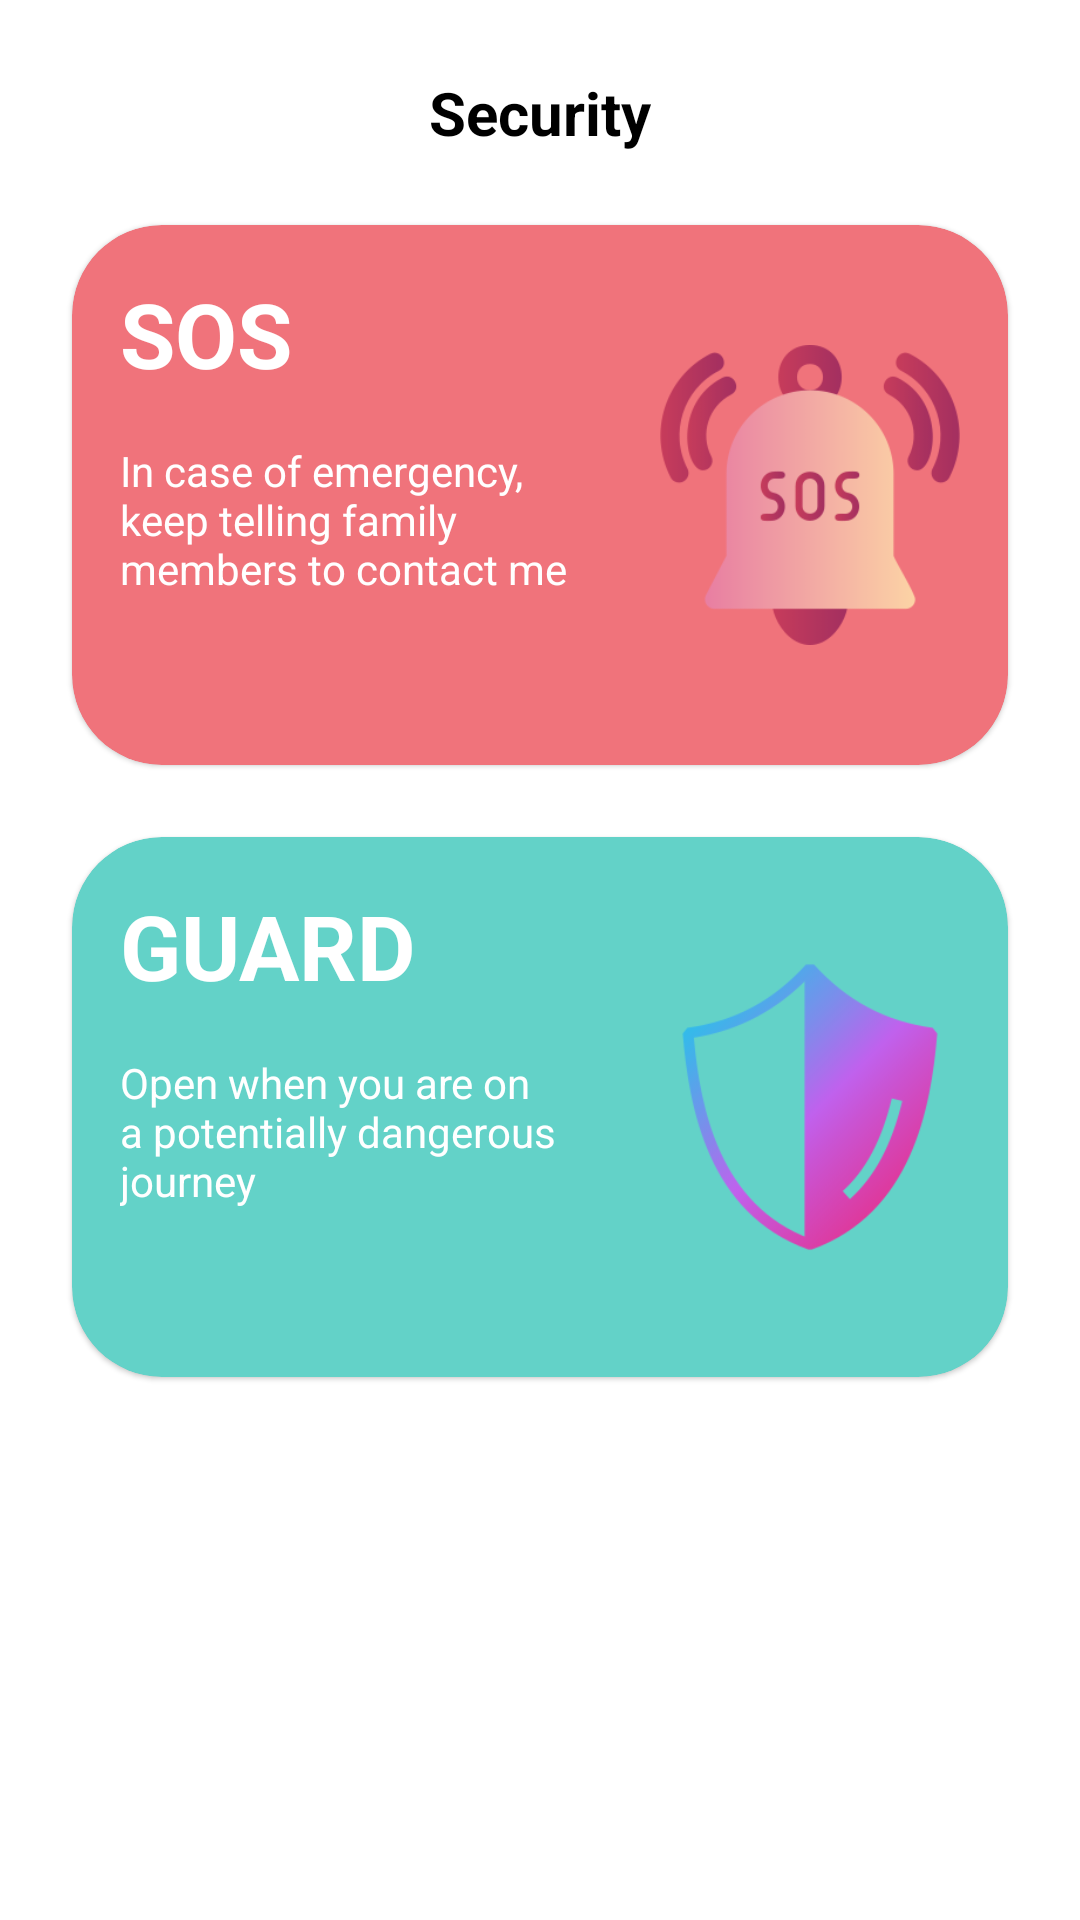

Screen size 1080 × 1920. Icon name, then its center in pixels as (x=x, y=y):
shield: (x=810, y=1107)
